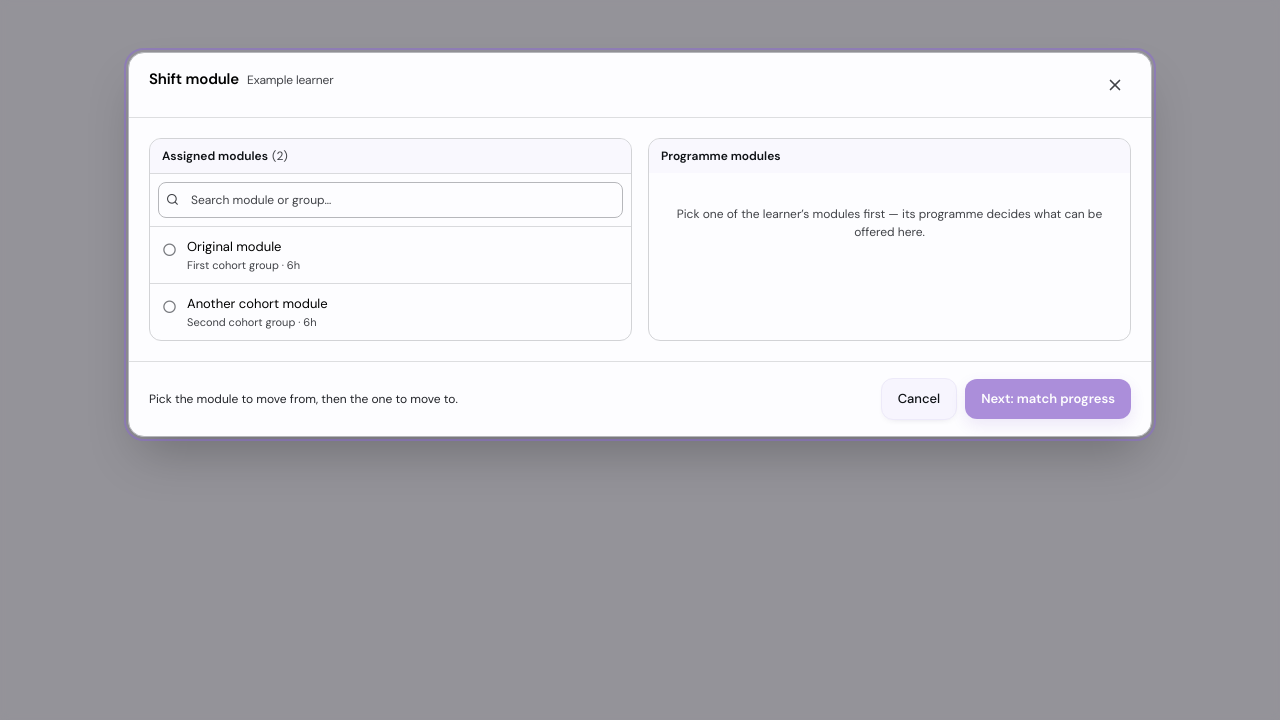
programme-wide module shift › keeps a module already assigned in another cohort disabled
The image size is (1280, 720).
Click the button "Original module First cohort group · 6h" at (234, 246), box [150, 226, 631, 283]
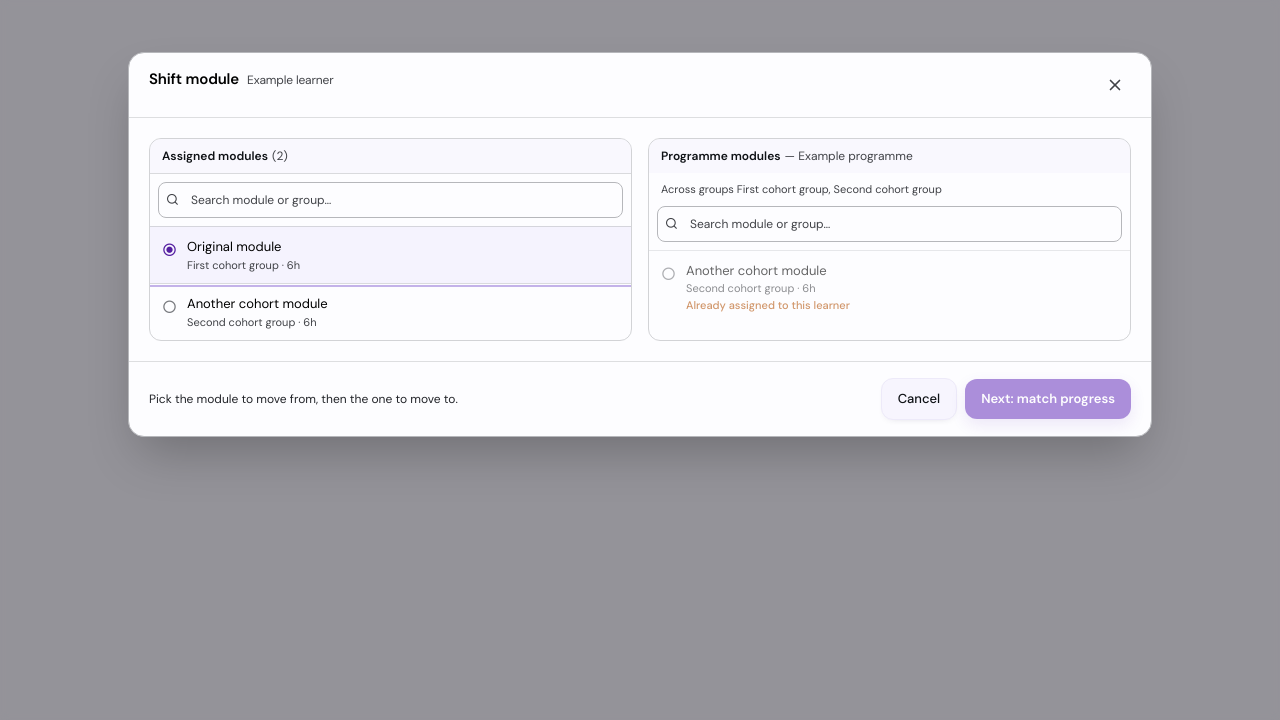
Expected: the button "Next: match progress" is disabled, [965, 379, 1131, 418]
Expected: the button "Already assigned to this learner" is disabled, [649, 250, 1130, 323]
